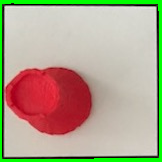Red Castle: (5, 63, 97, 141)
